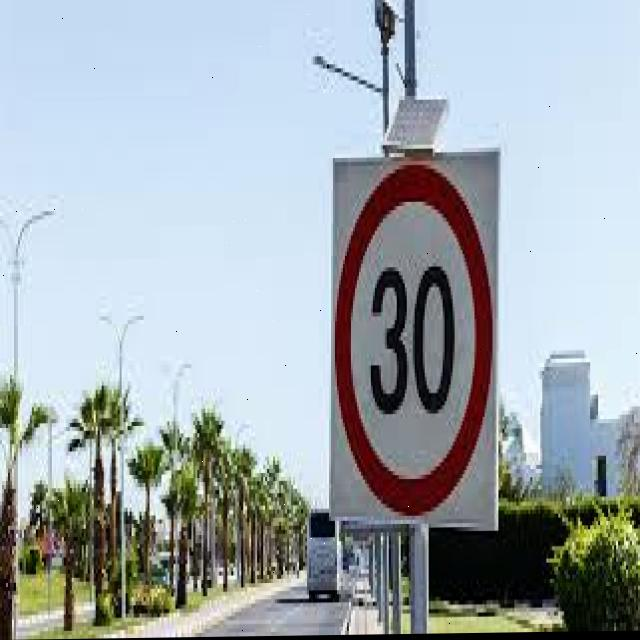Speed limit 30: (328, 146, 499, 535)
